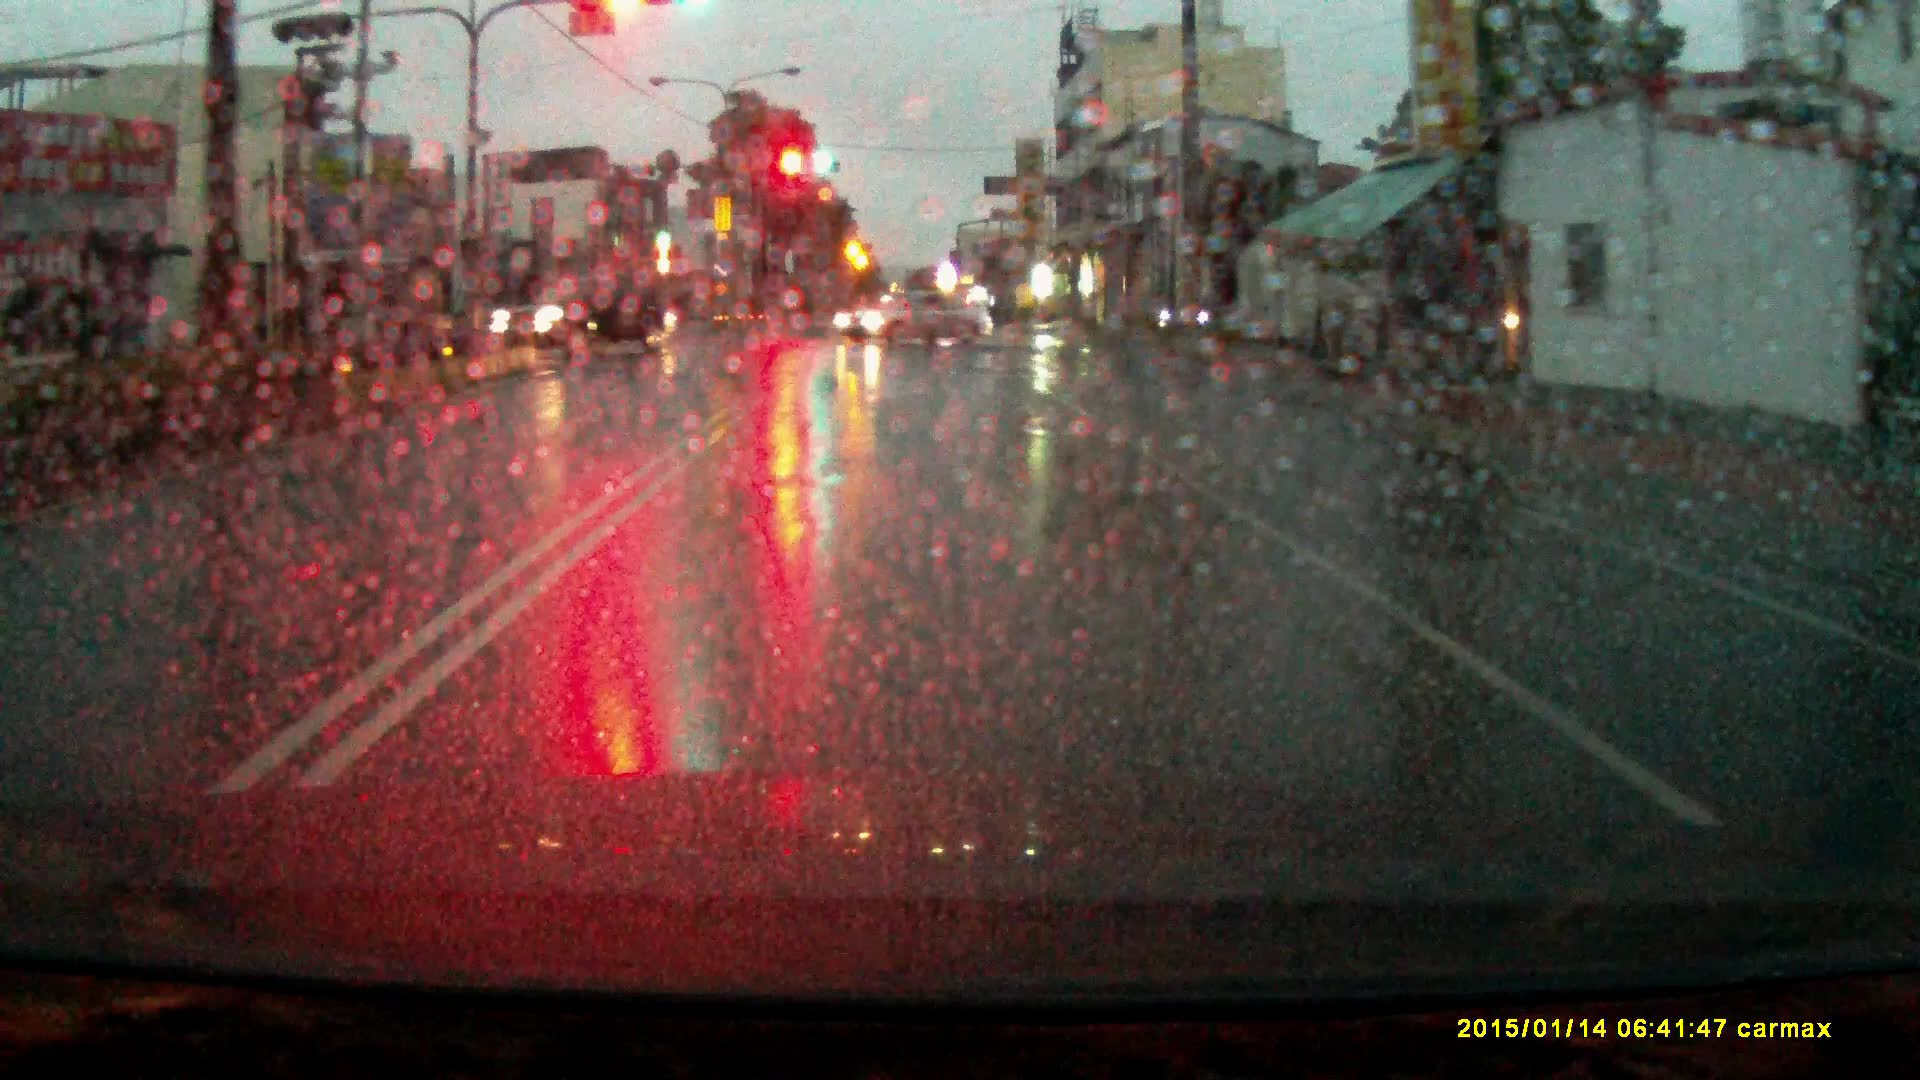vehicle: (489, 276, 680, 361), (837, 286, 994, 349)
